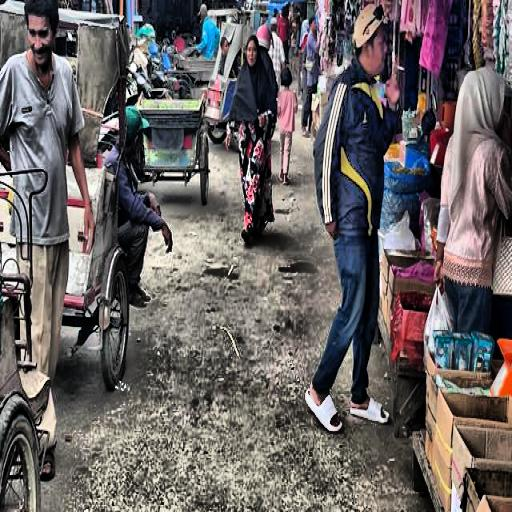Rokok: (386, 63, 403, 107)
